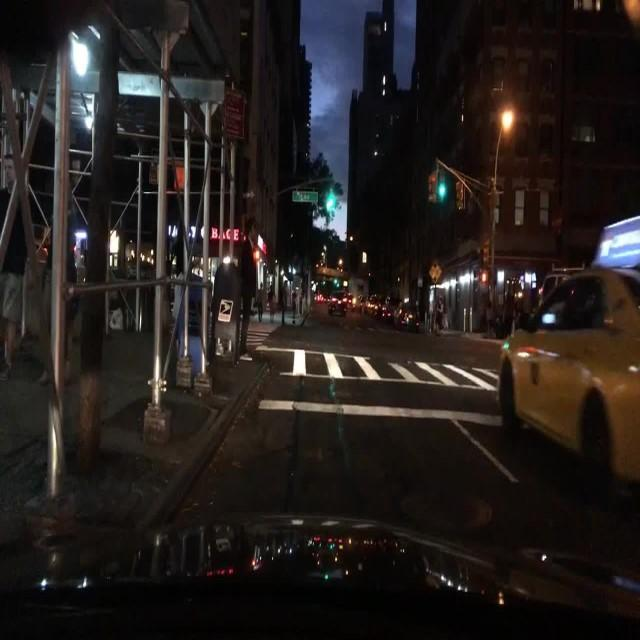normal: (497, 265, 640, 481)
